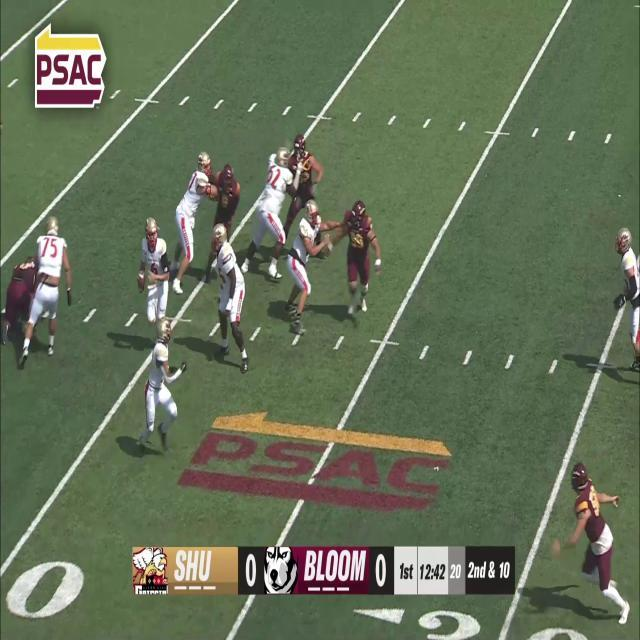football: (134, 271, 146, 290)
